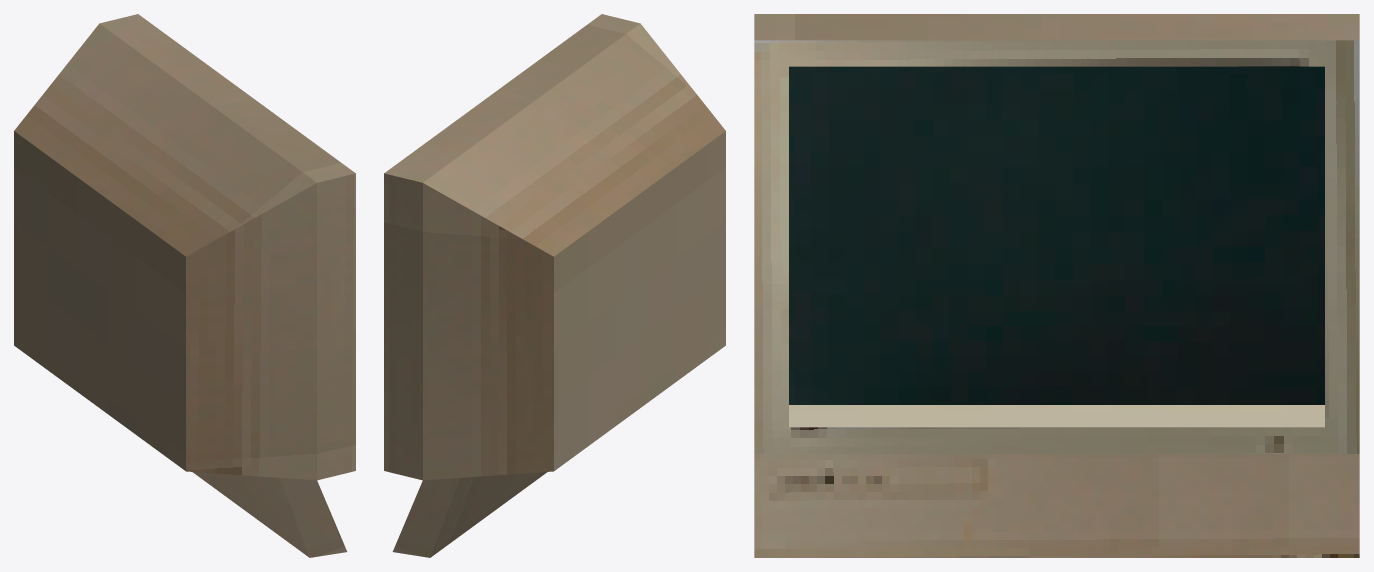
File: bigcomputar.glb
3 views of the same model, side by side, from view 1: azimuth 30°, elevation 25°; view 2: azimuth 150°, elevation 25°; view 3: azimuth 270°, elevation 25° (orthographic). The views are drawn at different scales.
Visible parts, largest first — view 1: Cube.004; view 2: Cube.004; view 3: Cube.004.
Boxes of the visible parts, x1,y1,x2,y2 form: Cube.004: (14, 14, 355, 557); Cube.004: (384, 14, 725, 557); Cube.004: (754, 14, 1359, 557).
Size of the model in its own units: 0.9191 by 2.27 by 2.36.
Materials: 1 (1 with a texture image).
